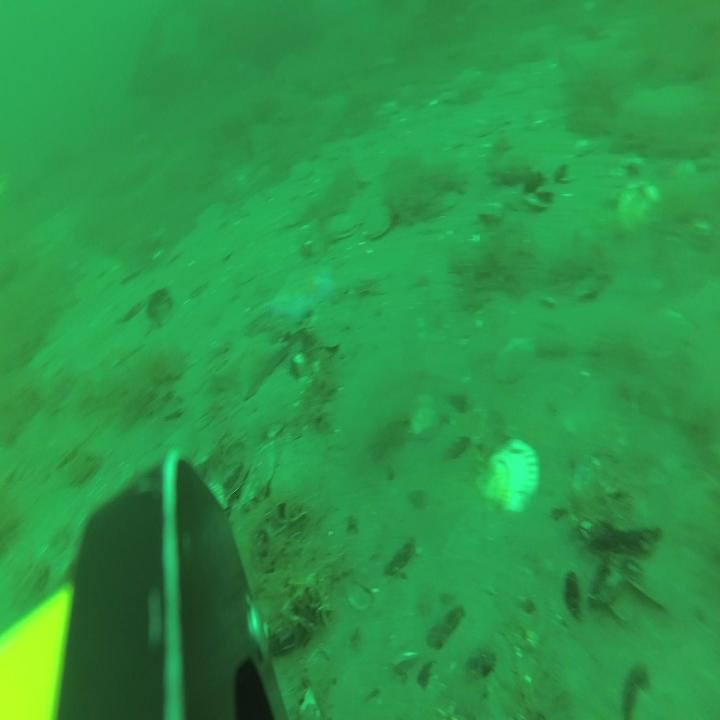scallop: (479, 439, 540, 512), (497, 326, 537, 382), (620, 178, 658, 228), (366, 198, 394, 239), (410, 402, 435, 441), (331, 210, 357, 240)
starfish: (213, 333, 287, 403), (252, 262, 340, 320)
